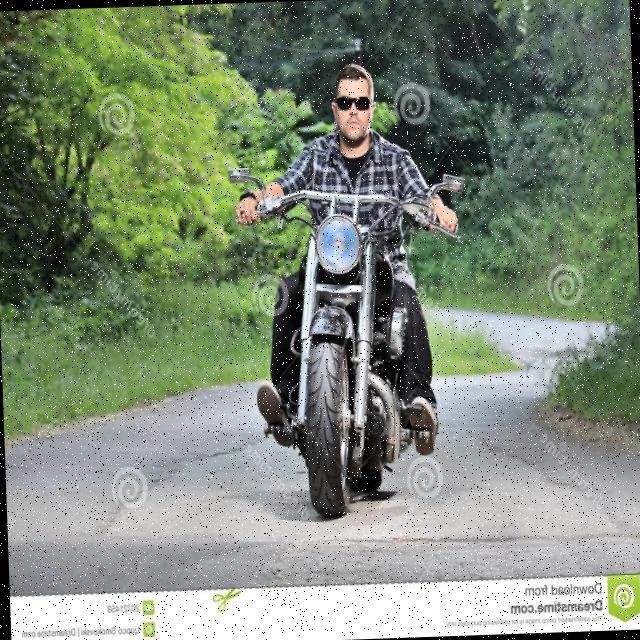No helmet: (325, 61, 393, 173)
